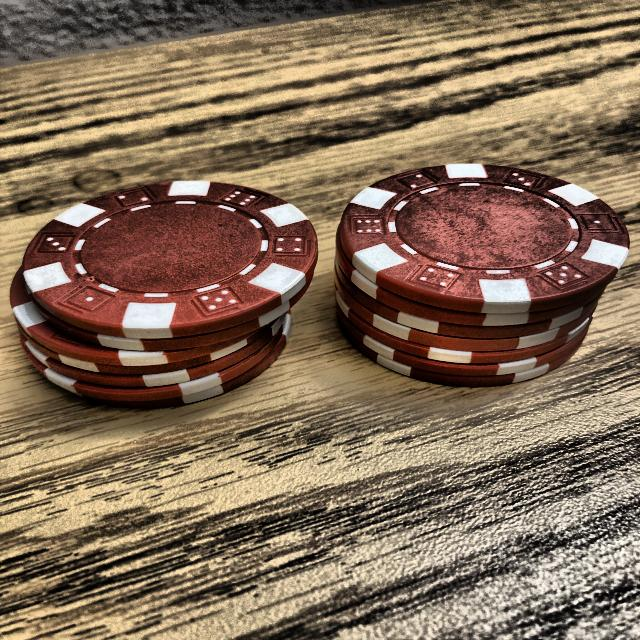Chip: (0, 169, 351, 418), (299, 153, 635, 383)
